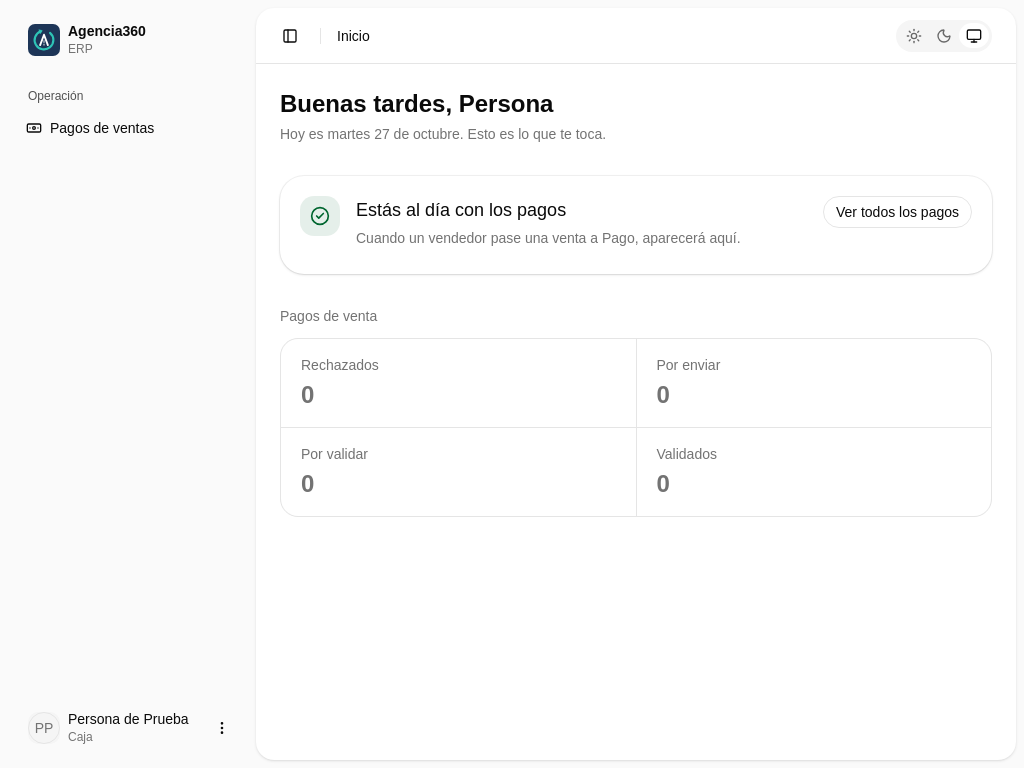
Test case: Rutas protegidas y menú por rol › cierra la sesión y regresa al login
Click the button named "Perfil de Persona de Prueba": (128, 728) [16,704,240,752]
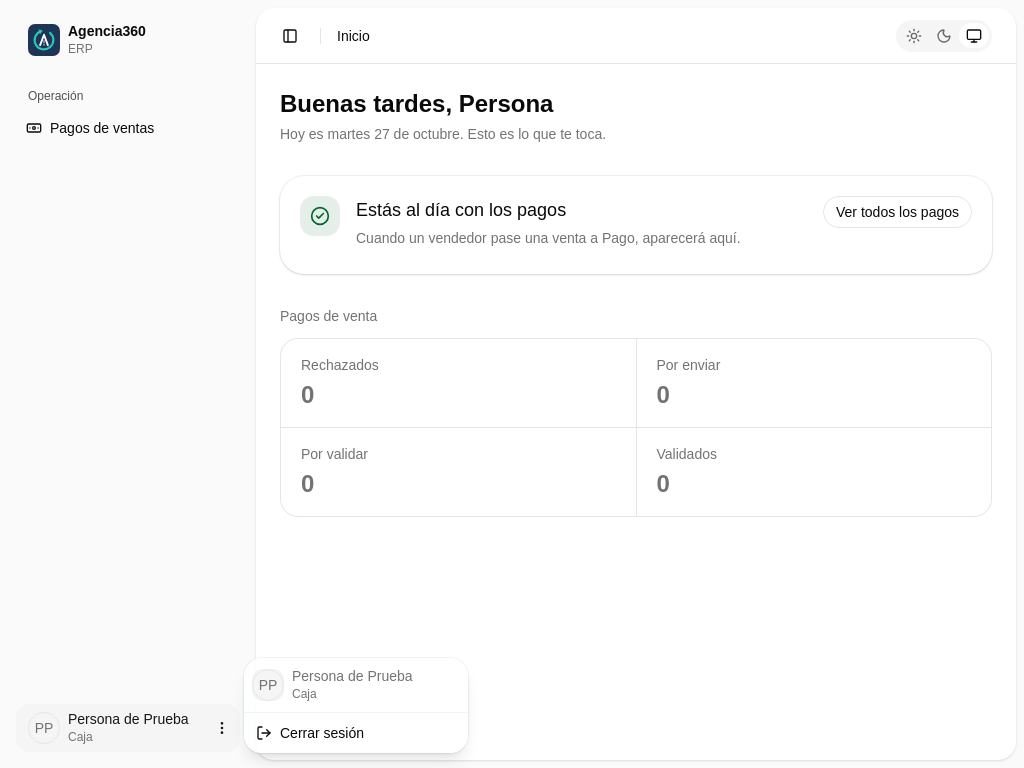
Click the menu item "Cerrar sesión": (310, 732) [256,724,364,740]
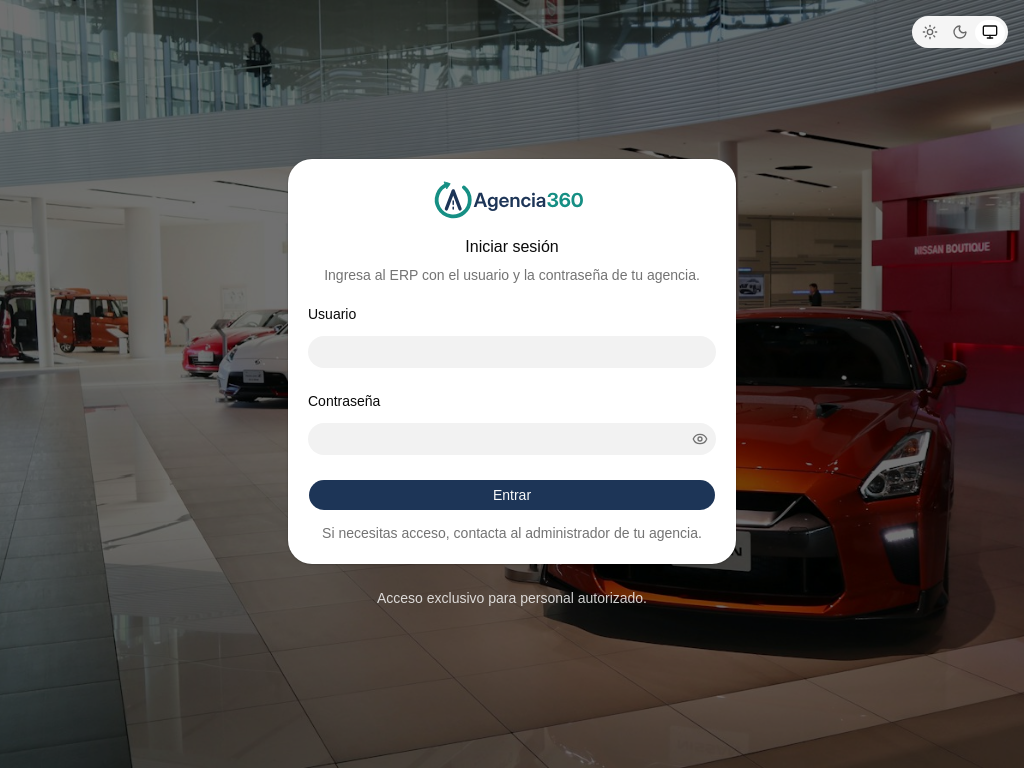
Expected: the button "Entrar" is shown, [308,480,716,512]
